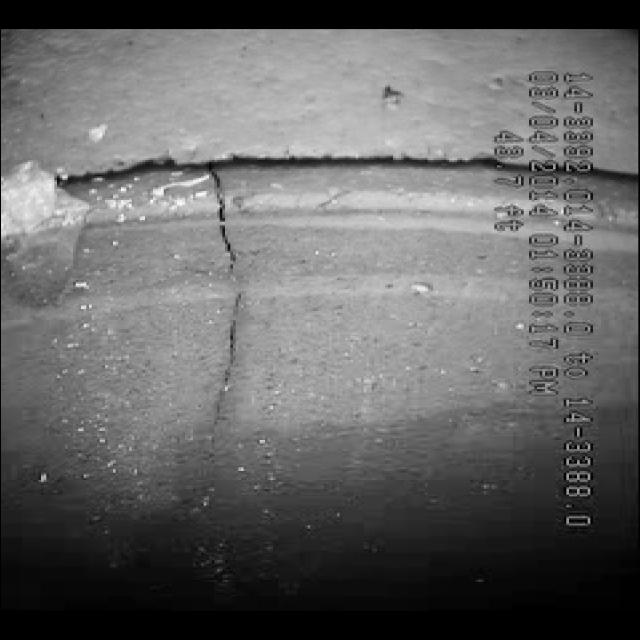Crack: (160, 180, 270, 420)
